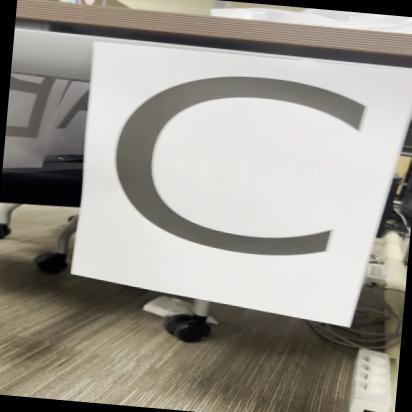seat: (73, 42, 403, 324)
